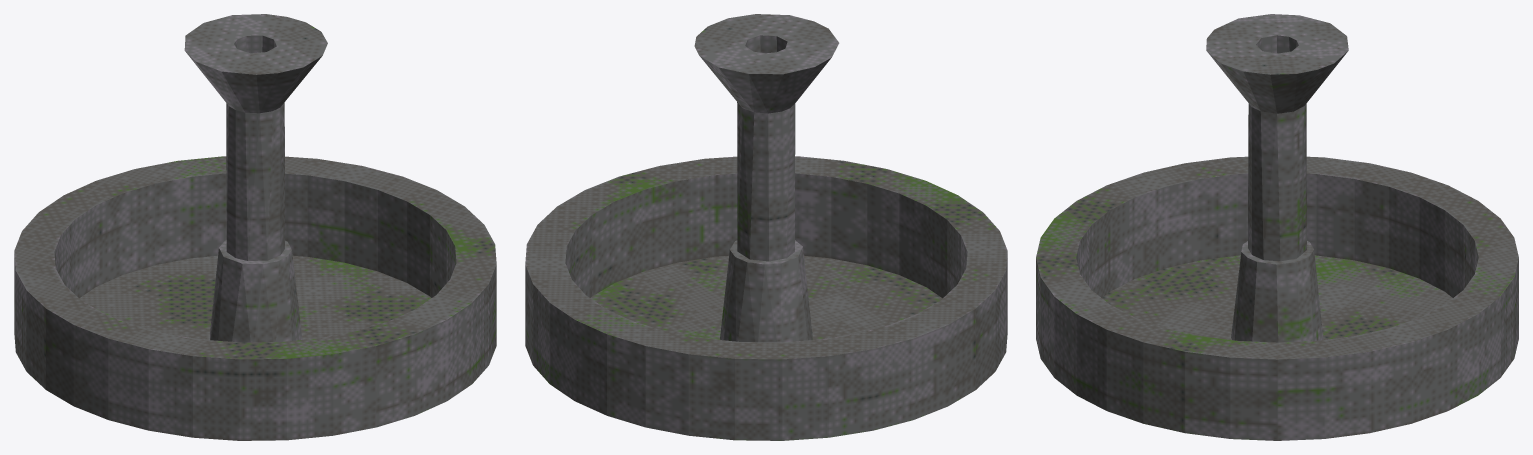
File: Fountain2.fbx
The picture shows the model from 3 angles, left to right: view 1: azimuth 30°, elevation 25°; view 2: azimuth 150°, elevation 25°; view 3: azimuth 270°, elevation 25°; orthographic projection.
Visible parts, largest first — view 1: Fountain; view 2: Fountain; view 3: Fountain.
Part boxes in pixels (box(x1,y1,x2,y2)): Fountain: box(14, 14, 496, 440); Fountain: box(525, 14, 1007, 440); Fountain: box(1036, 14, 1518, 440).
Size of the model in its own units: 1.36 by 1.36 by 0.9169.
Materials: 1 (1 with a texture image).
